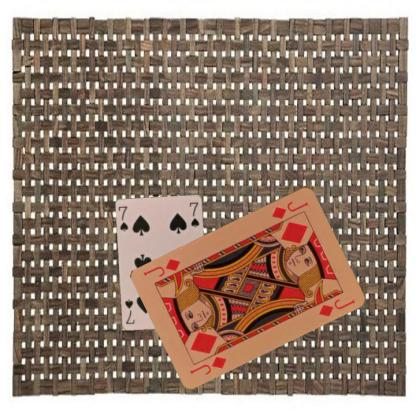7s: (116, 204, 130, 233)
Jd: (187, 353, 228, 376), (268, 198, 310, 220)
